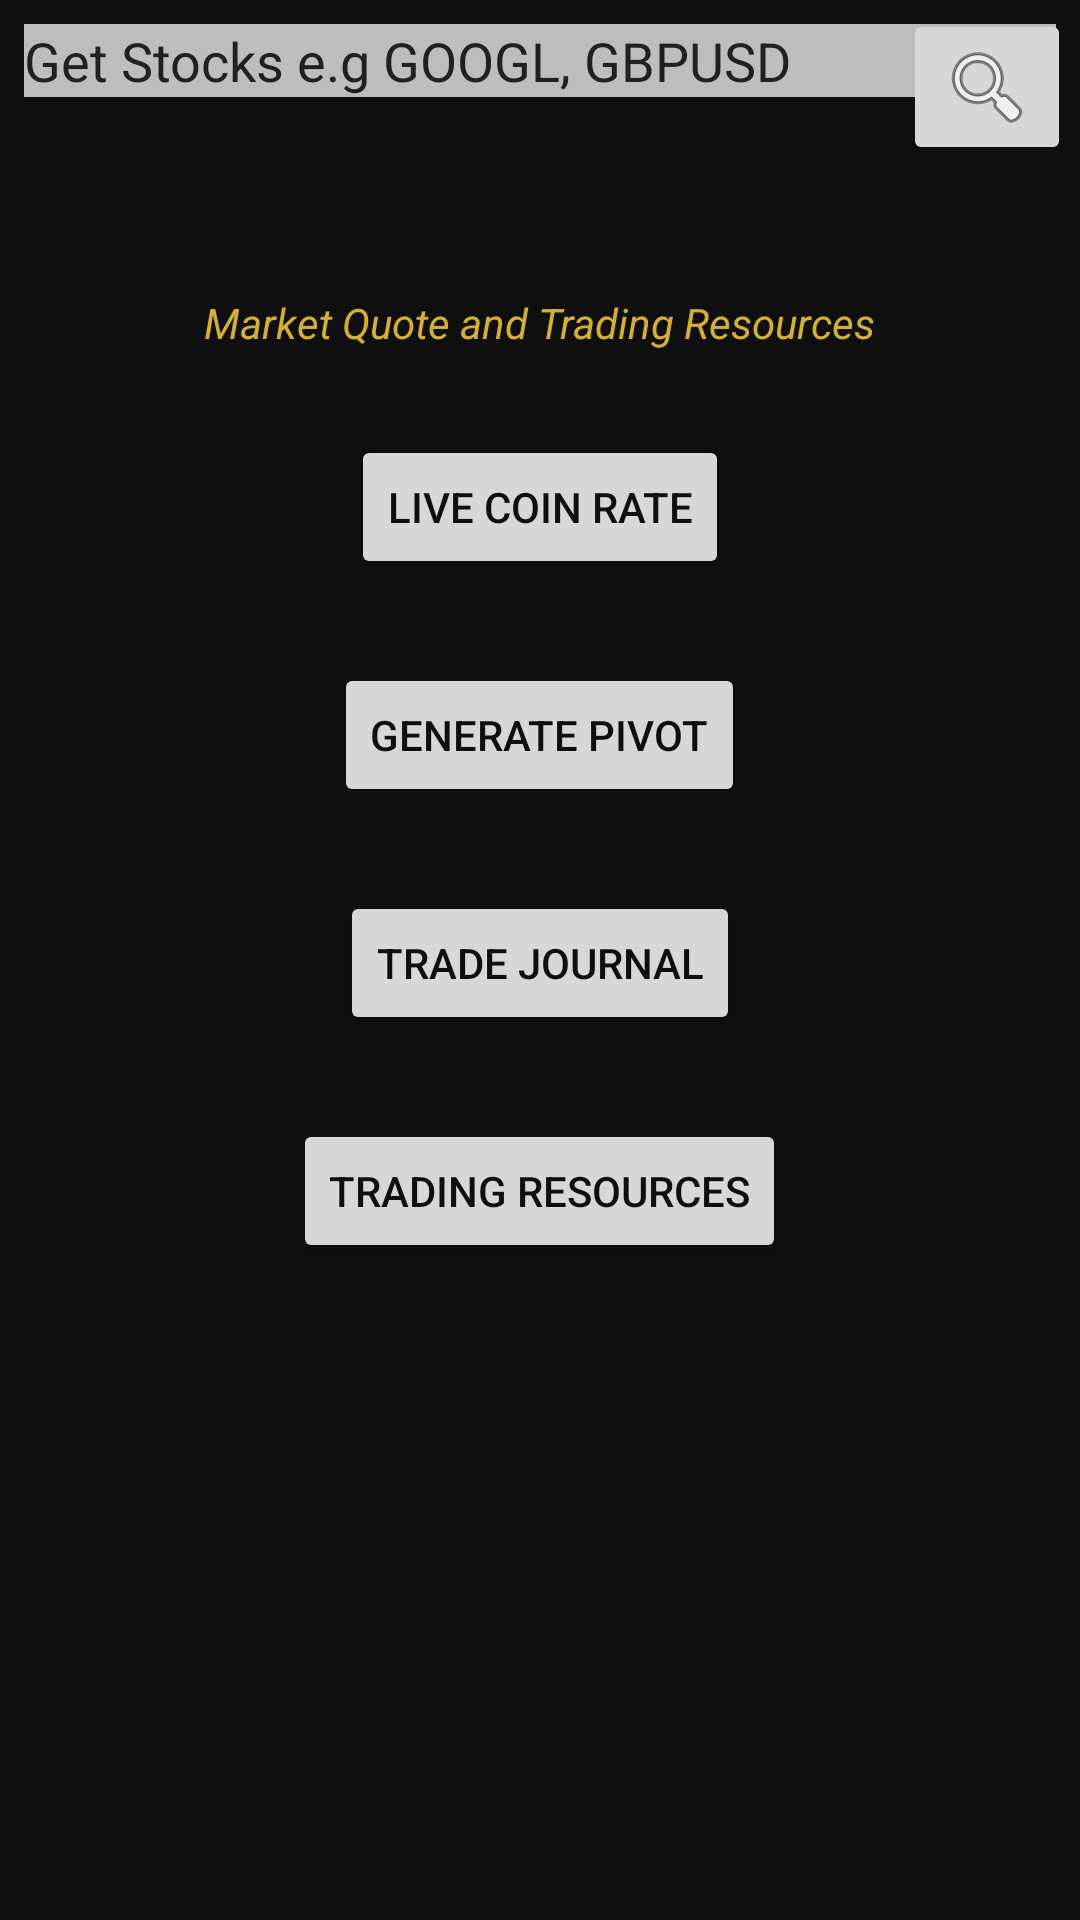

Locate icon controls on the screen. Image size 1080w x 1920h, boxes as [left=x1, top=y1, right=x2, bottom=y2].
Search For Stocks and Forex with symbols: [left=903, top=24, right=1059, bottom=147]
